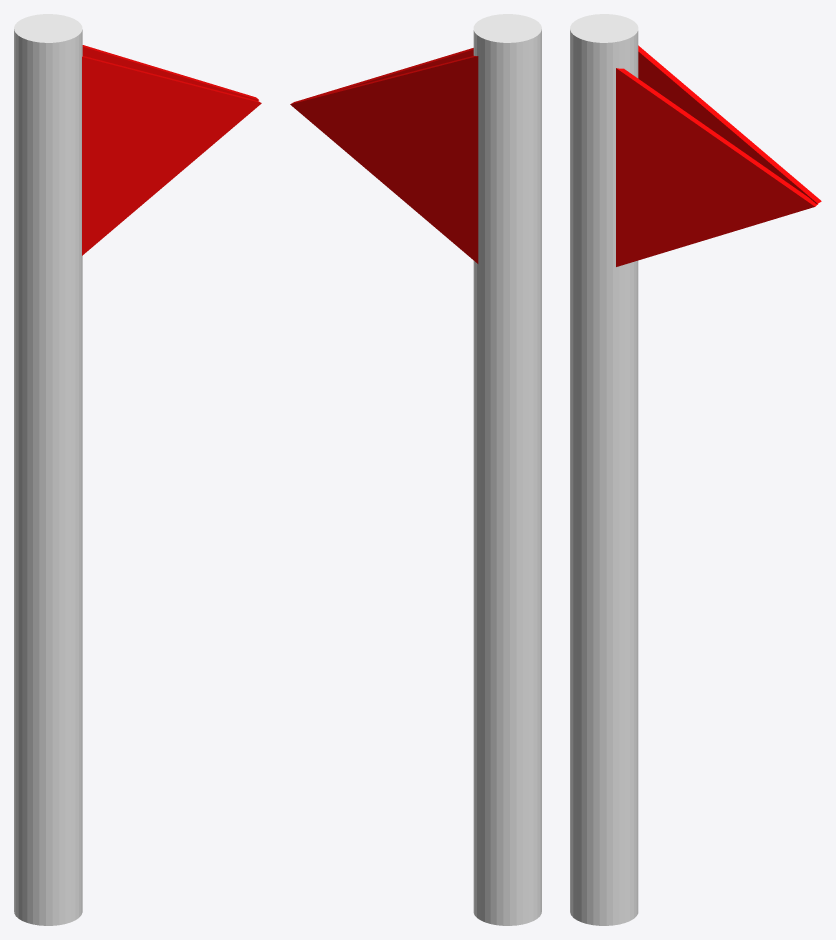
File: viewpoint.dae
3 renders of one model, left to right at view 1: azimuth 30°, elevation 25°; view 2: azimuth 150°, elevation 25°; view 3: azimuth 330°, elevation 25°, orthographic.
Visible parts, largest first — view 1: Cylinder, flag_002, flag_000; view 2: Cylinder, flag_000, flag_002; view 3: Cylinder, flag_002, flag_000.
Part boxes in pixels (x1,y1,x2,y2): Cylinder: (14,14,82,925); flag_002: (82,56,261,255); flag_000: (82,45,258,100); Cylinder: (473,14,541,925); flag_000: (290,56,478,263); flag_002: (299,48,473,100); Cylinder: (570,14,638,925); flag_002: (616,68,817,266); flag_000: (638,45,821,203).
Bounding box in the file's own units: 0.4082 × 0.1 × 1.42.
